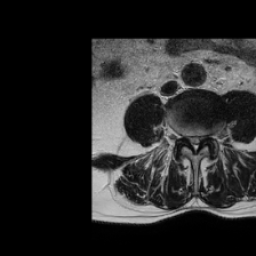CCS_normal: (191, 132, 197, 156)
LFS_severe_stenosis: (203, 130, 209, 146)
LLS_stenosis: (197, 131, 203, 147)
RFS_severe_stenosis: (181, 130, 188, 144)
RLS_severe_stenosis: (187, 131, 192, 147)
